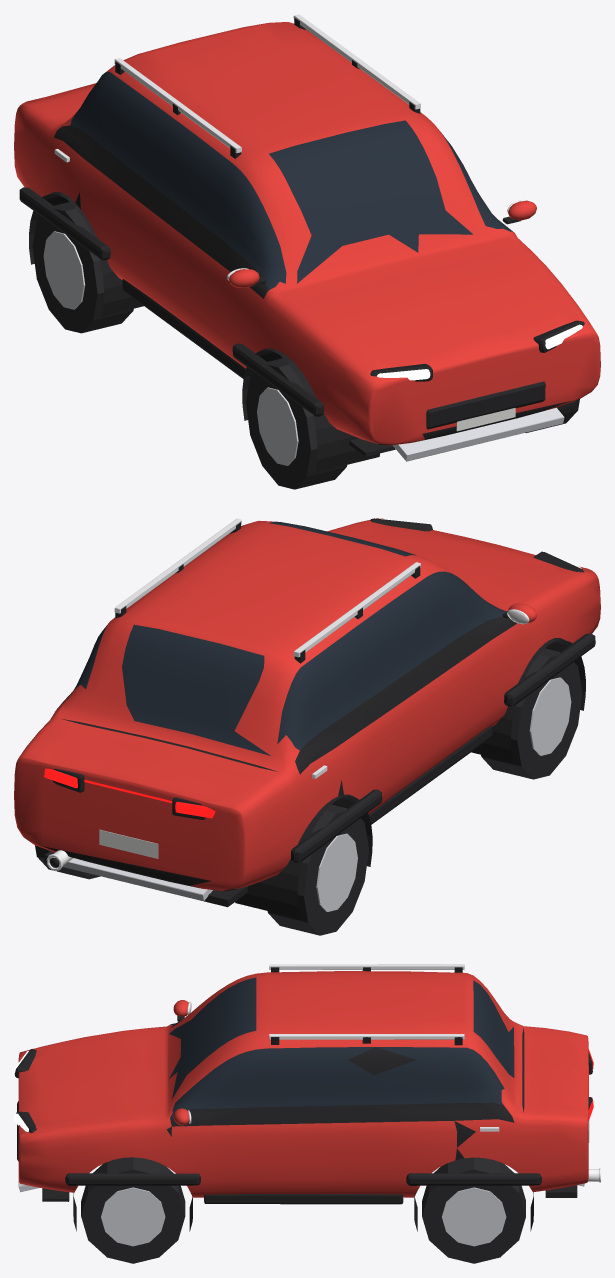
The model's file is atlas_lod.glb.
3 renders of one model, top to bottom at view 1: azimuth 30°, elevation 25°; view 2: azimuth 150°, elevation 25°; view 3: azimuth 270°, elevation 25°, orthographic. The views are drawn at different scales.
Parts seen in each view (by area): view 1: body, wheel_rr, wheel_fr; view 2: body, wheel_rr, wheel_fr; view 3: body, wheel_fl, wheel_rl.
Part boxes in pixels (x1=…): body: x1=14, y1=14, x2=600, y2=472; wheel_rr: x1=32, y1=202, x2=133, y2=333; wheel_fr: x1=246, y1=358, x2=347, y2=489; body: x1=14, y1=518, x2=600, y2=918; wheel_rr: x1=267, y1=804, x2=368, y2=935; wheel_fr: x1=481, y1=648, x2=582, y2=779; body: x1=14, y1=964, x2=600, y2=1231; wheel_fl: x1=81, y1=1157, x2=185, y2=1263; wheel_rl: x1=422, y1=1157, x2=525, y2=1263.
Size of the model in its own units: 2.28 by 1.88 by 4.74.
